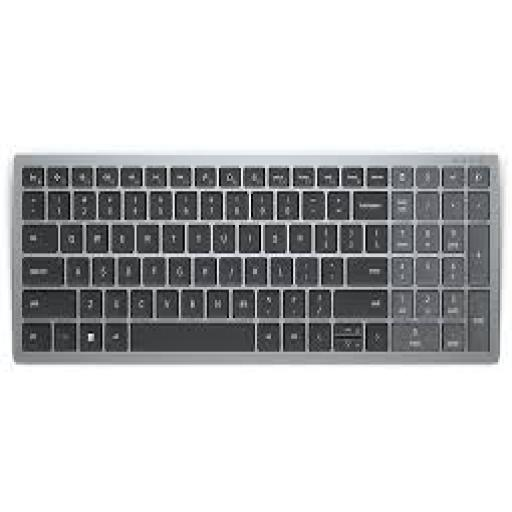KEYBOARD-2: (14, 155, 498, 362)
